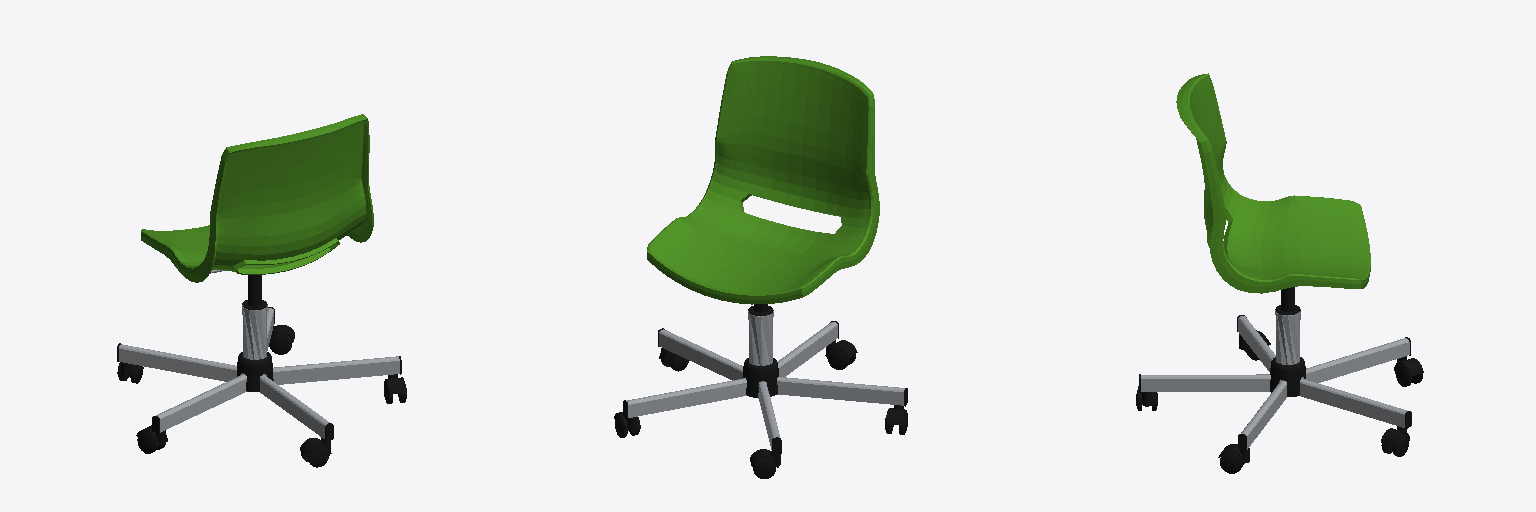
3 renders of one model, left to right at view 1: azimuth 30°, elevation 25°; view 2: azimuth 150°, elevation 25°; view 3: azimuth 270°, elevation 25°, orthographic.
Visible parts, largest first — view 1: Mesh2 Group2 SNILLE_IKEA1 Model, Mesh8 Group6 SNILLE_IKEA1 Model, Mesh7 Group5 SNILLE_IKEA1 Model, Mesh1 Group1 SNILLE_IKEA1 Model, Mesh3 Group3 SNILLE_IKEA1 Model; view 2: Mesh2 Group2 SNILLE_IKEA1 Model, Mesh8 Group6 SNILLE_IKEA1 Model, Mesh7 Group5 SNILLE_IKEA1 Model, Mesh1 Group1 SNILLE_IKEA1 Model; view 3: Mesh2 Group2 SNILLE_IKEA1 Model, Mesh8 Group6 SNILLE_IKEA1 Model, Mesh7 Group5 SNILLE_IKEA1 Model, Mesh1 Group1 SNILLE_IKEA1 Model.
Boxes of the visible parts, x1,y1,x2,y2 form: Mesh2 Group2 SNILLE_IKEA1 Model: [141, 114, 373, 282]; Mesh8 Group6 SNILLE_IKEA1 Model: [117, 307, 401, 440]; Mesh7 Group5 SNILLE_IKEA1 Model: [242, 305, 267, 359]; Mesh1 Group1 SNILLE_IKEA1 Model: [237, 352, 273, 391]; Mesh3 Group3 SNILLE_IKEA1 Model: [242, 275, 267, 309]; Mesh2 Group2 SNILLE_IKEA1 Model: [647, 56, 879, 304]; Mesh8 Group6 SNILLE_IKEA1 Model: [623, 321, 907, 454]; Mesh7 Group5 SNILLE_IKEA1 Model: [748, 311, 773, 365]; Mesh1 Group1 SNILLE_IKEA1 Model: [743, 358, 778, 397]; Mesh2 Group2 SNILLE_IKEA1 Model: [1176, 73, 1370, 293]; Mesh8 Group6 SNILLE_IKEA1 Model: [1139, 315, 1411, 450]; Mesh7 Group5 SNILLE_IKEA1 Model: [1275, 310, 1300, 364]; Mesh1 Group1 SNILLE_IKEA1 Model: [1270, 357, 1305, 396].
Size of the model in its own units: 0.5958 by 0.7074 by 0.5849.